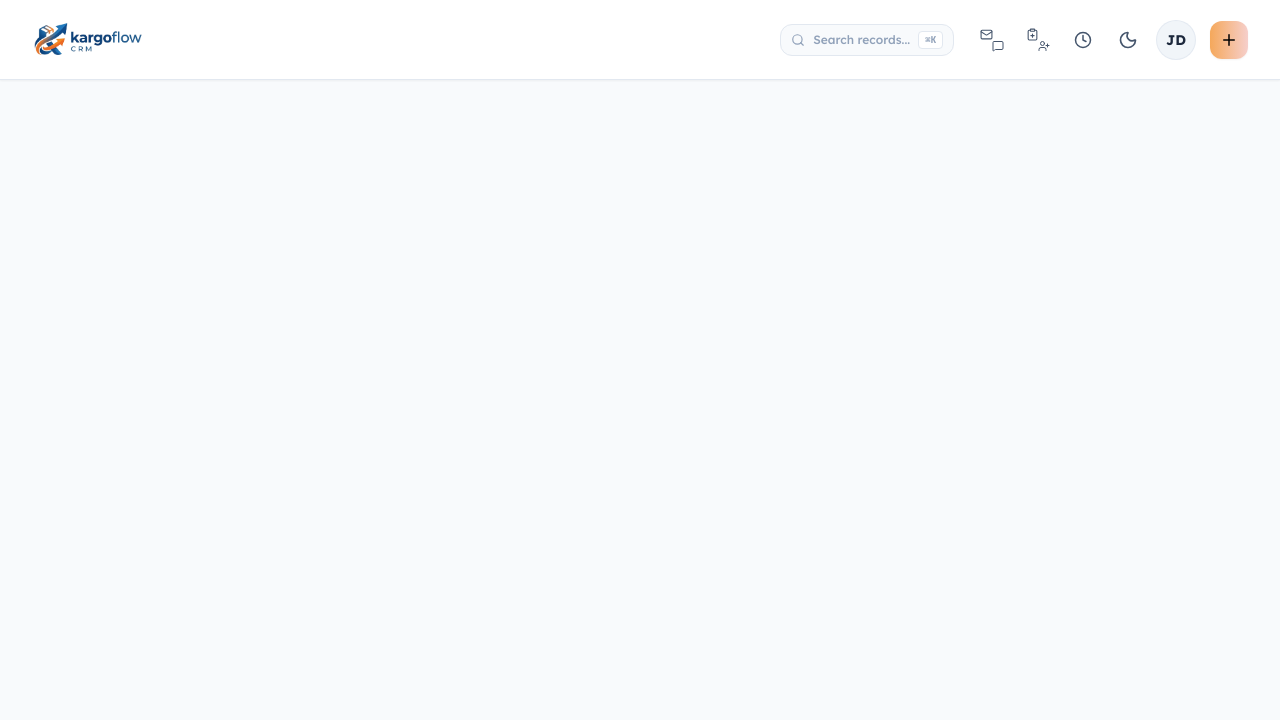
Test: Header Universal Search › filters commands cleanly without overlapping or duplicate descriptions
Step 1. Click the button titled "Search (⌘K)" → (867, 40), box [780,24,954,56]
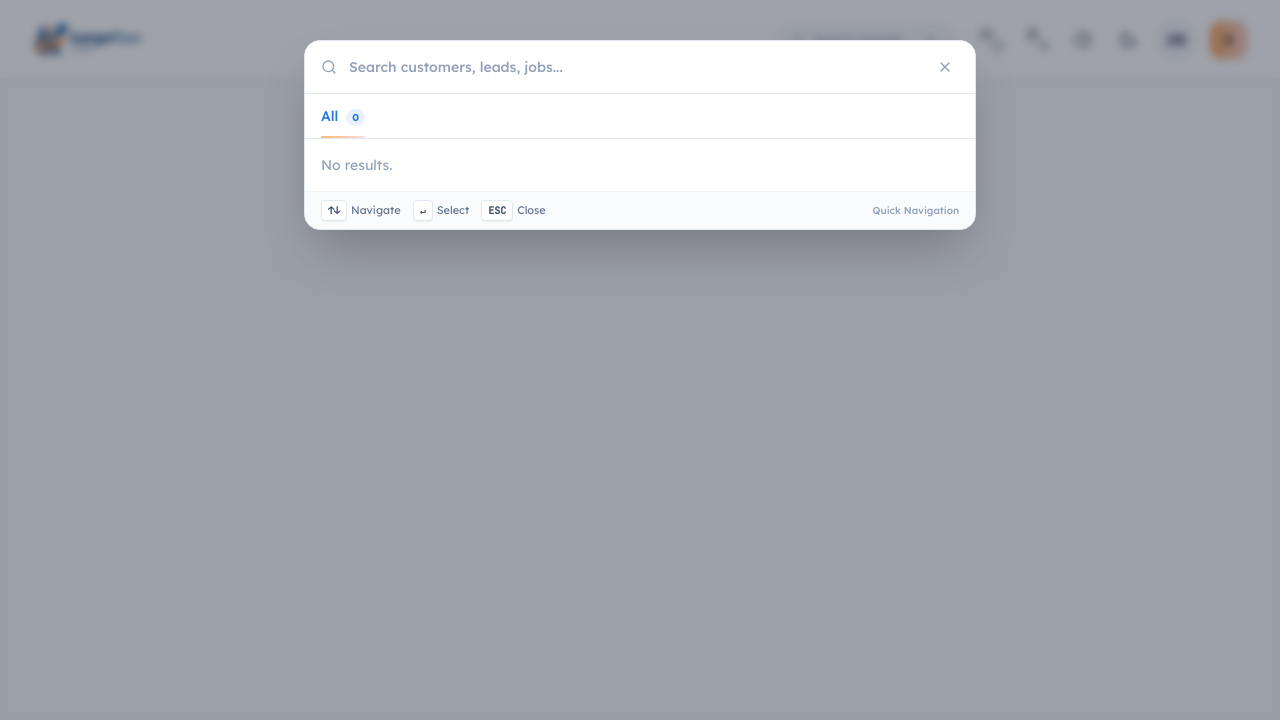
Step 2. Type "c" into the field with placeholder "Search customers, leads, jobs..." → (634, 67), box [349,57,919,77]
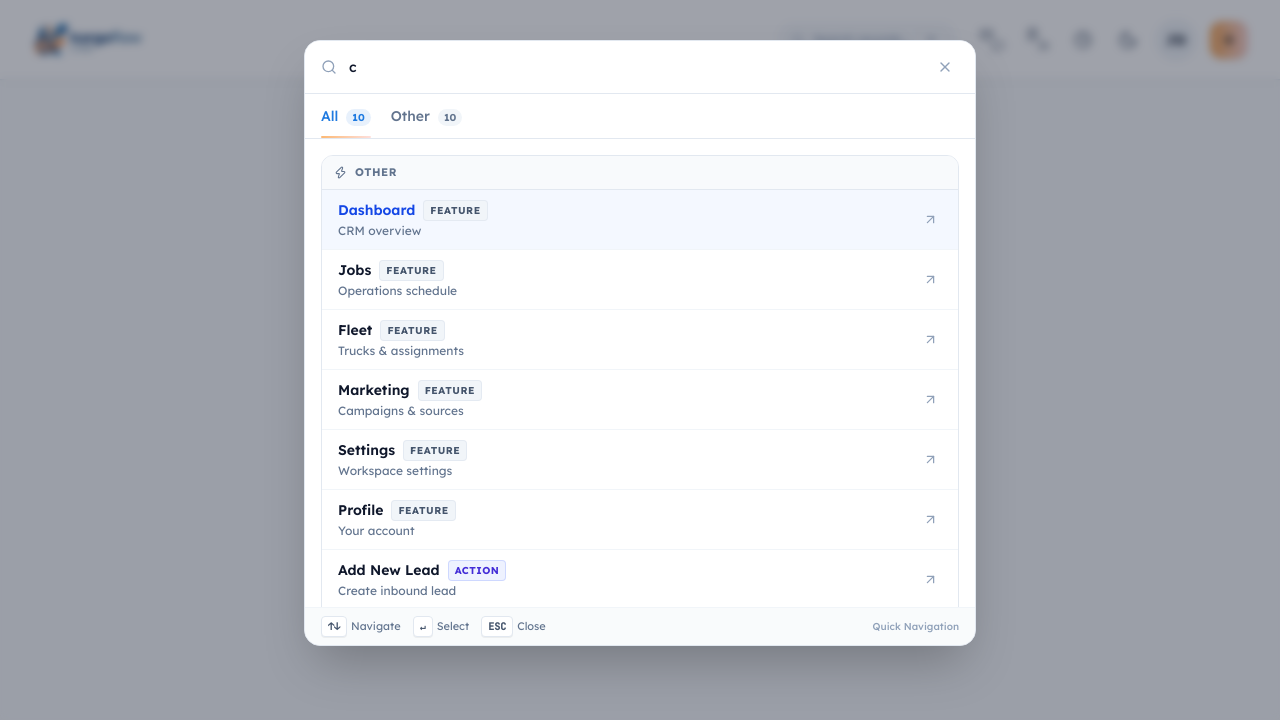
Check: the text "Dashboard" is shown, box [338,200,415,220]
Check: the text "CRM overview" is shown, box [338,222,421,238]
Check: the 1st text "FEATURE" is shown, box [423,200,488,220]
